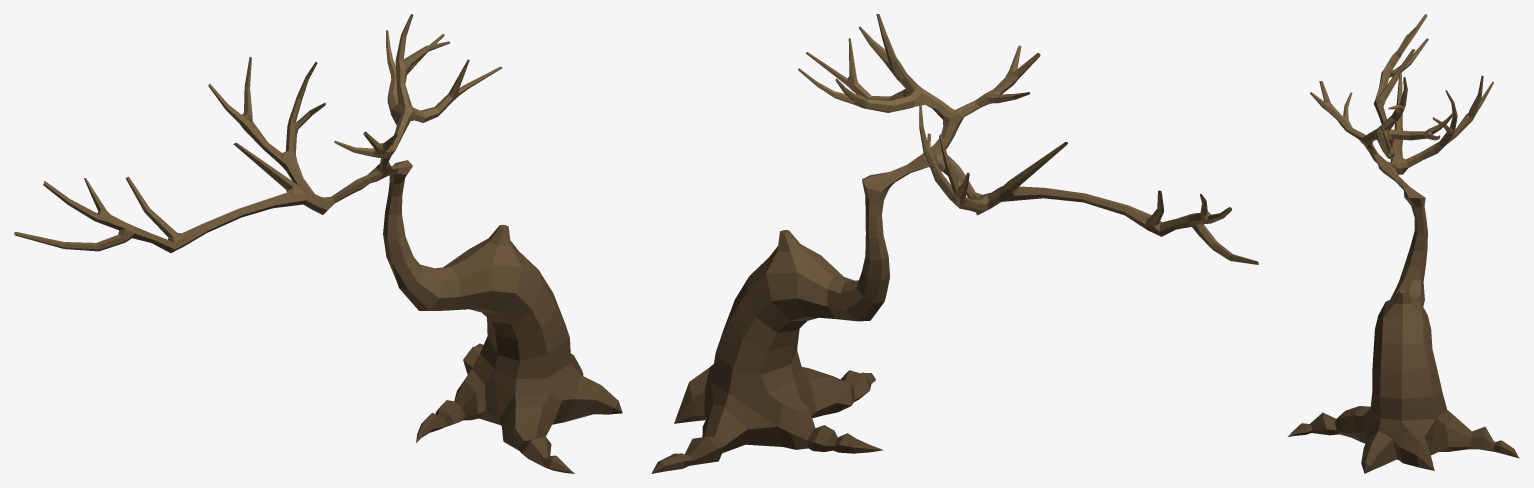
File: wasteland_tree2.fbx
3 renders of one model, left to right at view 1: azimuth 30°, elevation 25°; view 2: azimuth 150°, elevation 25°; view 3: azimuth 270°, elevation 25°, orthographic. The views are drawn at different scales.
Visible parts, largest first — view 1: wasteland_tree2; view 2: wasteland_tree2; view 3: wasteland_tree2.
Part boxes in pixels (<box>): wasteland_tree2: <box>14,14,622,473</box>; wasteland_tree2: <box>651,14,1258,473</box>; wasteland_tree2: <box>1288,14,1519,473</box>.
Size of the model in its own units: 5.79 by 4.15 by 2.66.
